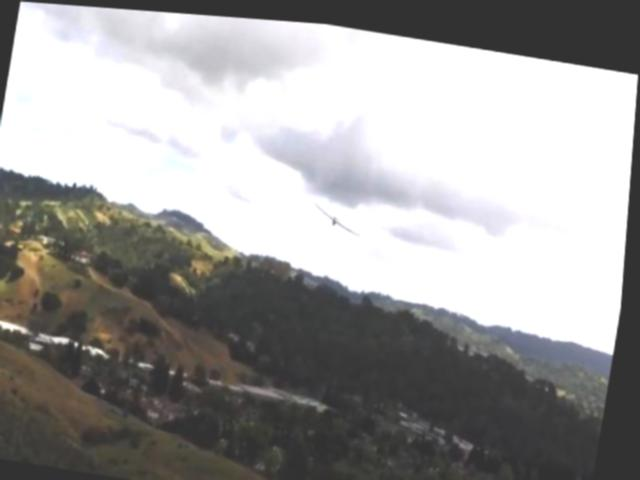iha: (307, 179, 369, 233)
